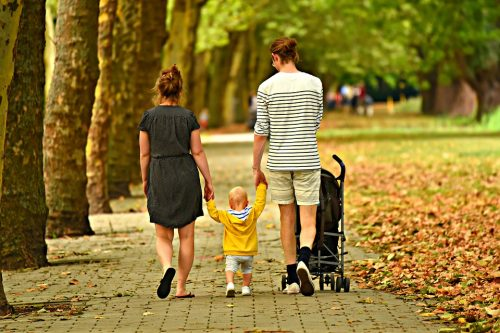Person: (248, 36, 330, 293), (135, 63, 212, 303), (206, 179, 270, 300)
